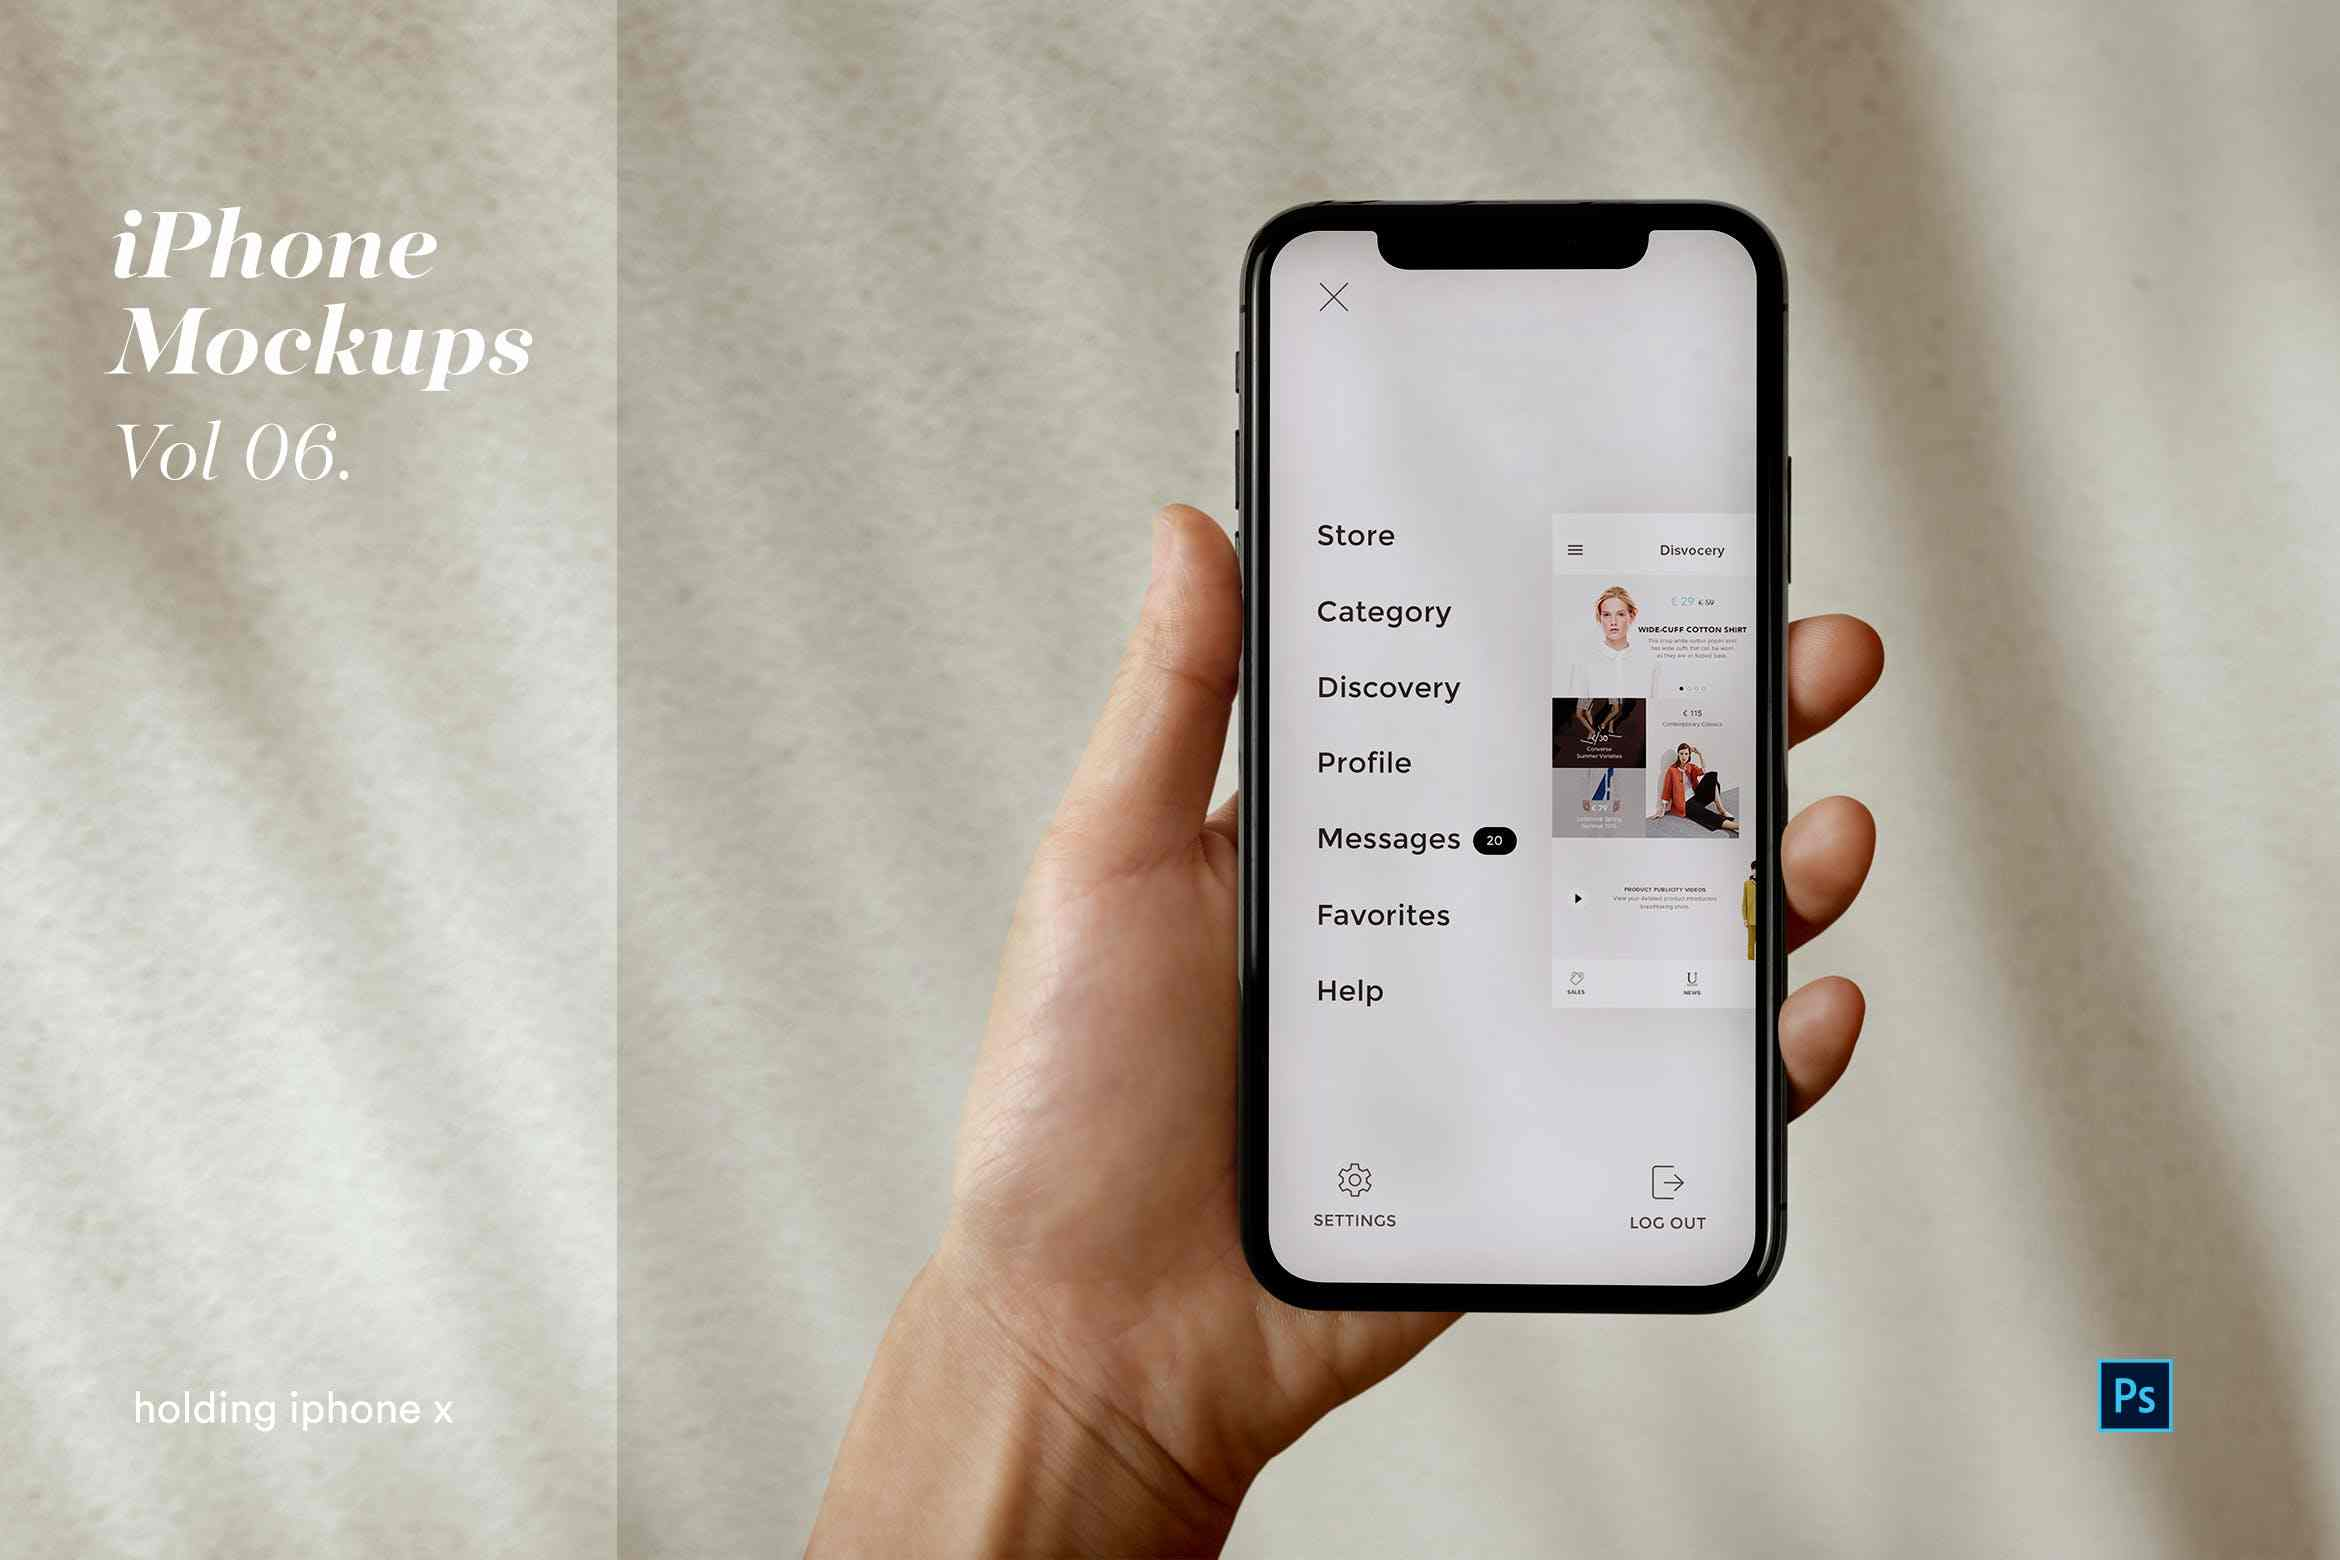phone: (958, 183, 1906, 1410)
